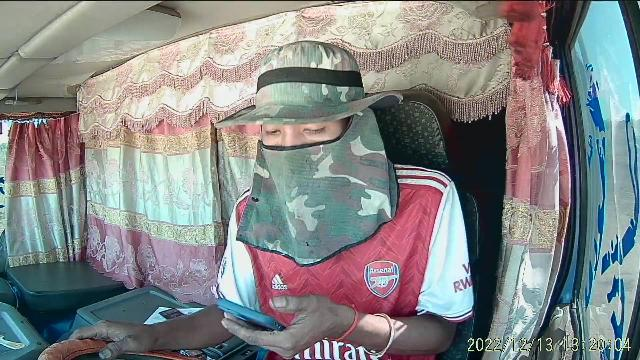PhoneUse: (214, 294, 288, 332)
